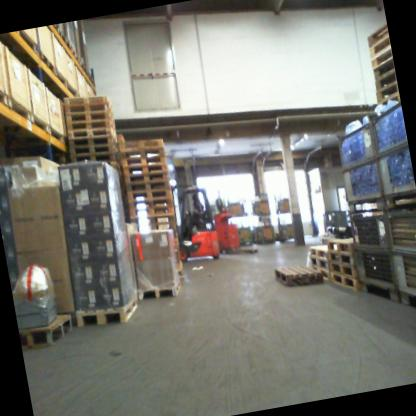forklift: (165, 176, 223, 270)
pallet: (72, 289, 144, 333), (17, 307, 78, 354), (62, 105, 117, 140), (271, 260, 323, 295), (59, 87, 113, 119), (61, 114, 117, 144), (64, 119, 119, 147), (62, 97, 115, 126), (66, 137, 118, 161), (68, 133, 119, 155), (327, 264, 361, 296), (117, 132, 163, 152), (125, 192, 171, 212), (126, 209, 173, 228), (124, 160, 166, 180), (124, 176, 168, 195), (138, 281, 184, 299), (120, 146, 167, 163), (80, 148, 117, 169), (24, 55, 55, 80), (124, 167, 167, 185), (125, 187, 170, 204), (127, 202, 173, 218), (121, 151, 164, 168), (322, 231, 351, 255), (328, 247, 357, 270), (329, 258, 357, 280), (363, 22, 389, 45), (368, 36, 392, 60), (309, 243, 334, 266), (140, 220, 175, 234), (373, 69, 396, 90), (370, 49, 393, 70), (374, 79, 398, 99), (371, 60, 394, 79), (308, 256, 329, 272), (54, 34, 70, 53), (311, 265, 329, 277), (74, 58, 86, 75), (69, 45, 77, 60), (124, 132, 125, 134)
pallet_truck: (207, 184, 262, 262)
stillage: (346, 206, 405, 316), (330, 117, 386, 217), (366, 98, 416, 210), (385, 205, 416, 319), (246, 187, 273, 218), (273, 192, 297, 225), (225, 191, 251, 219), (251, 218, 276, 247), (275, 216, 297, 246), (233, 220, 254, 249)
